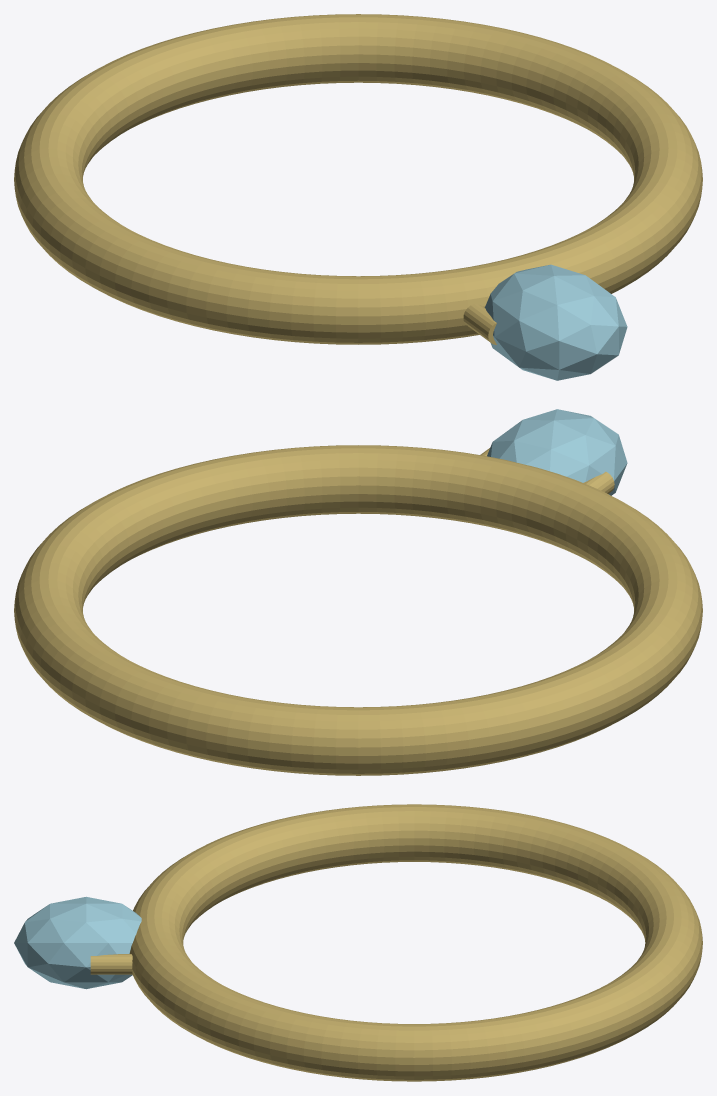
The model's file is goldar_calibrated_reference_ring.glb.
The picture shows the model from 3 angles, top to bottom: view 1: azimuth 30°, elevation 25°; view 2: azimuth 150°, elevation 25°; view 3: azimuth 270°, elevation 25°; orthographic projection. The views are drawn at different scales.
Visible parts, largest first — view 1: RingBand_Calibrated, Gemstone_Top_PositiveZ, GemSetting_-2.2; view 2: RingBand_Calibrated, Gemstone_Top_PositiveZ; view 3: RingBand_Calibrated, Gemstone_Top_PositiveZ, GemSetting_2.2.
Part boxes in pixels (x1,y1,x2,y2): RingBand_Calibrated: (14,14,702,344); Gemstone_Top_PositiveZ: (484,264,627,380); GemSetting_-2.2: (463,304,496,344); RingBand_Calibrated: (14,445,702,775); Gemstone_Top_PositiveZ: (487,409,627,495); RingBand_Calibrated: (129,804,702,1081); Gemstone_Top_PositiveZ: (14,896,141,989); GemSetting_2.2: (90,954,132,974).
Size of the model in its own units: 25 by 3.75 by 29.83.
